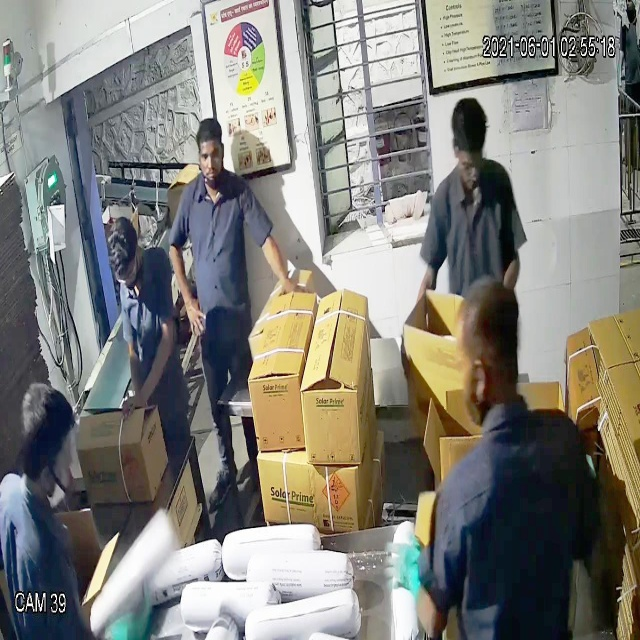Gafas: (108, 253, 139, 291)
